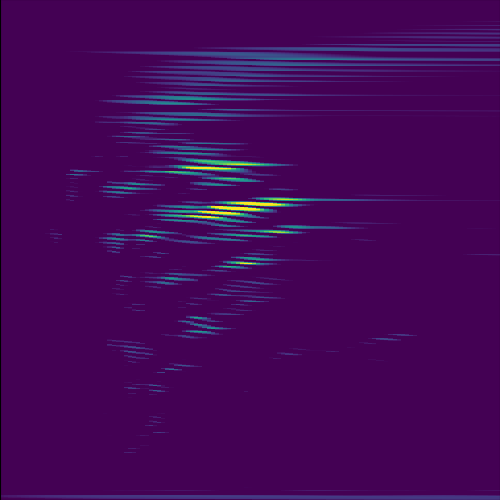semblance: (157, 193, 326, 230), (147, 156, 292, 182)
